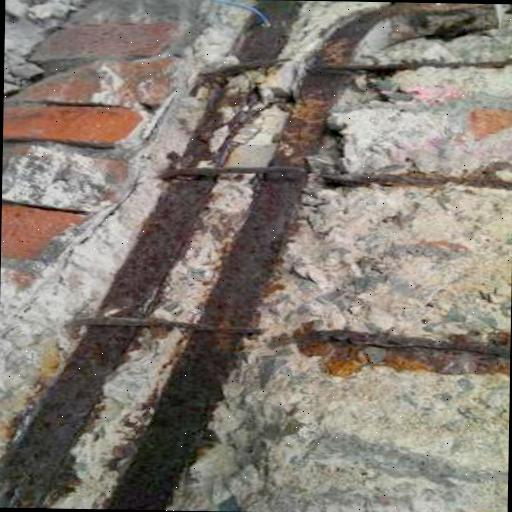spalling: (0, 2, 510, 512)
